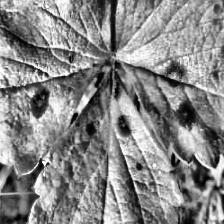Leaf Spot: (26, 64, 183, 224), (0, 0, 114, 178), (113, 0, 224, 170), (164, 145, 224, 224)
